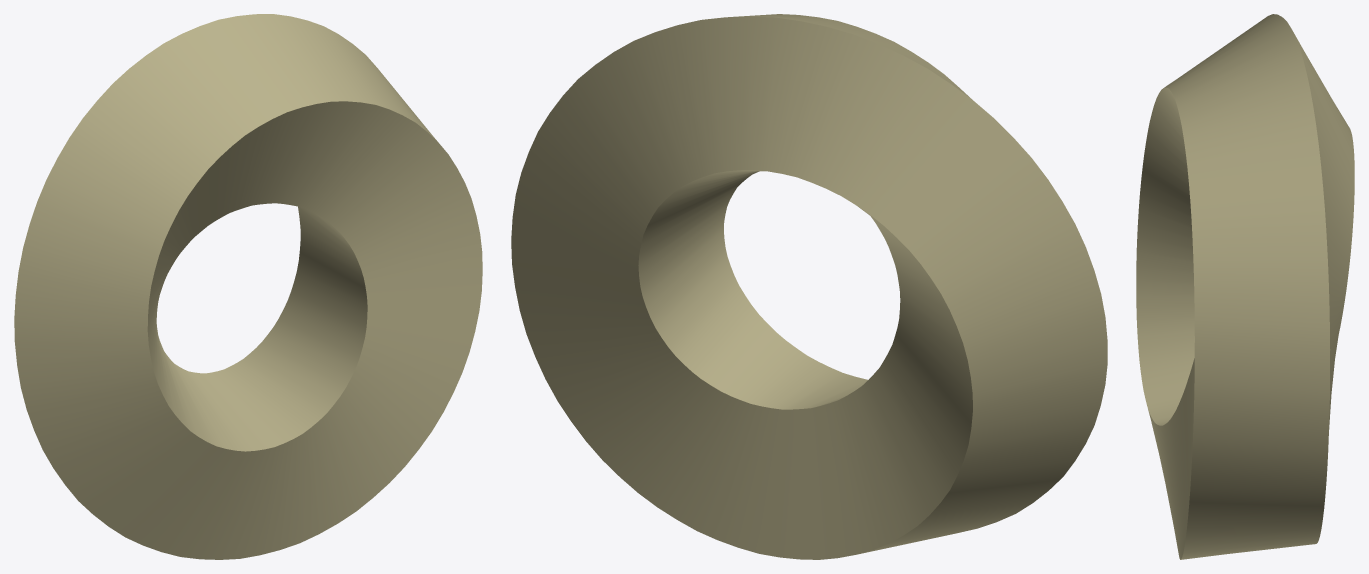
3 renders of one model, left to right at view 1: azimuth 30°, elevation 25°; view 2: azimuth 150°, elevation 25°; view 3: azimuth 270°, elevation 25°, orthographic. The views are drawn at different scales.
Parts seen in each view (by area): view 1: default001fsFF; view 2: default001fsFF; view 3: default001fsFF.
Boxes of the visible parts, x1,y1,x2,y2 form: default001fsFF: [14, 14, 482, 559]; default001fsFF: [511, 14, 1107, 559]; default001fsFF: [1136, 14, 1354, 559].
Bounding box in the file's own units: 2.75 × 2.77 × 1.11.
